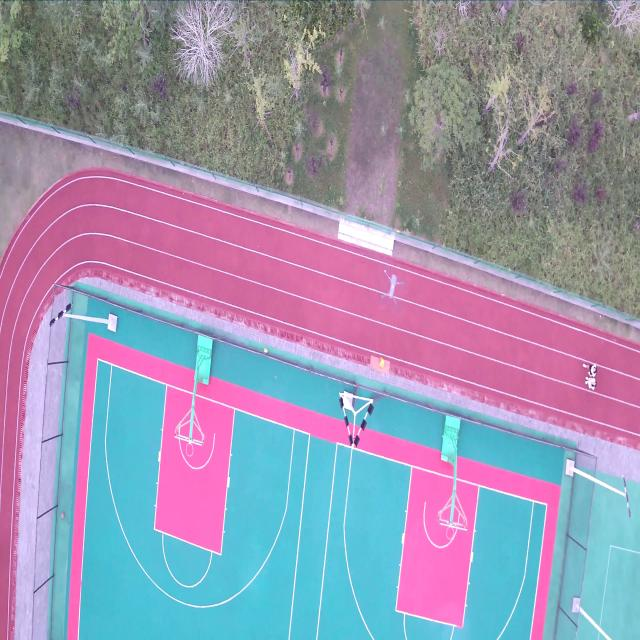UAV: (380, 269, 404, 310)
